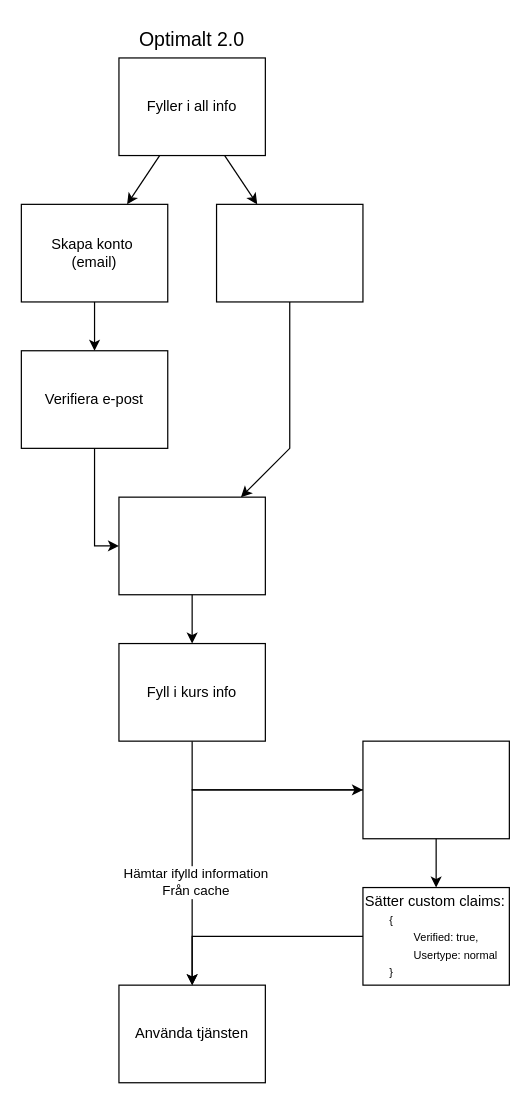
This 531x1104 diagram has some shape labels left out. Here are the shapes that lost their labels. From the top down, the centre of each, then its label:
the point at 289,252: Skapa konto (Google)
the point at 191,545: Local storage
the point at 435,789: Skapar användar dokument
